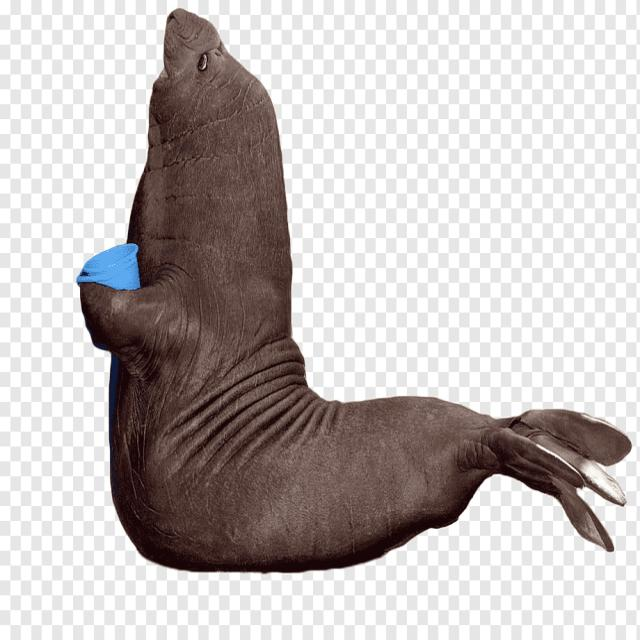walrus: (118, 4, 640, 576)
